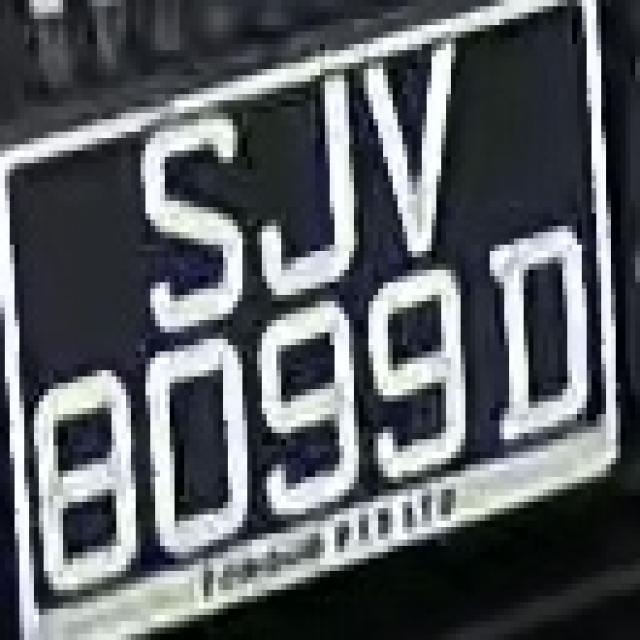0: (126, 333, 247, 571)
8: (14, 351, 165, 609)
9: (364, 251, 484, 489), (257, 295, 368, 552)
D: (480, 220, 611, 446)
J: (247, 56, 364, 332)
S: (126, 88, 252, 332)
V: (354, 19, 475, 276)
